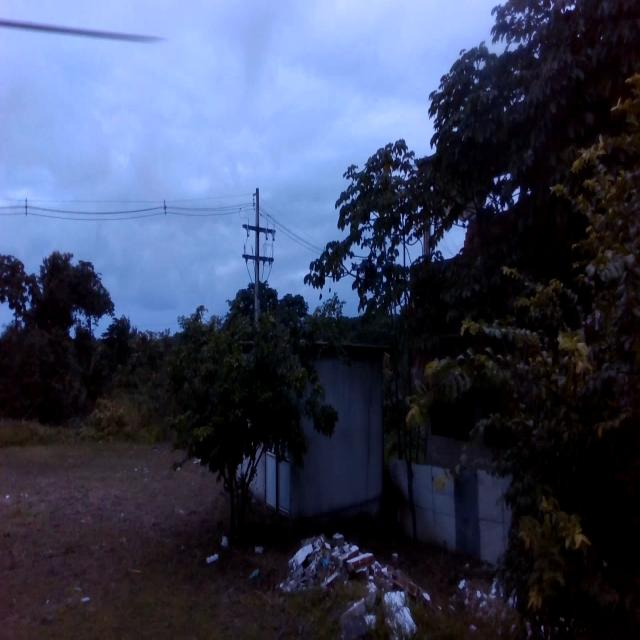-uav-: (350, 257, 394, 307)
